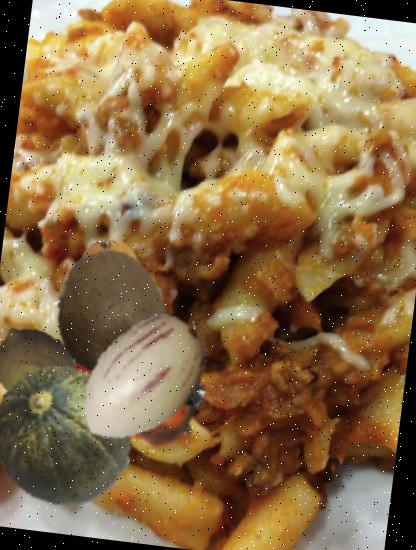Kaki: (53, 312, 212, 470)
Kiwi: (40, 241, 182, 383)
Kohlrabi: (102, 342, 178, 418)
Lemon: (0, 317, 82, 414), (68, 235, 150, 317)
Melon: (0, 352, 143, 519)
Pepino: (63, 300, 228, 466)
